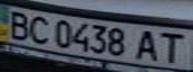0: (51, 17, 75, 50)
3: (87, 22, 109, 56)
4: (69, 20, 90, 52)
8: (106, 25, 130, 58)
A: (133, 27, 163, 62)
B: (3, 8, 33, 41)
C: (24, 12, 54, 44)
T: (154, 29, 187, 64)
